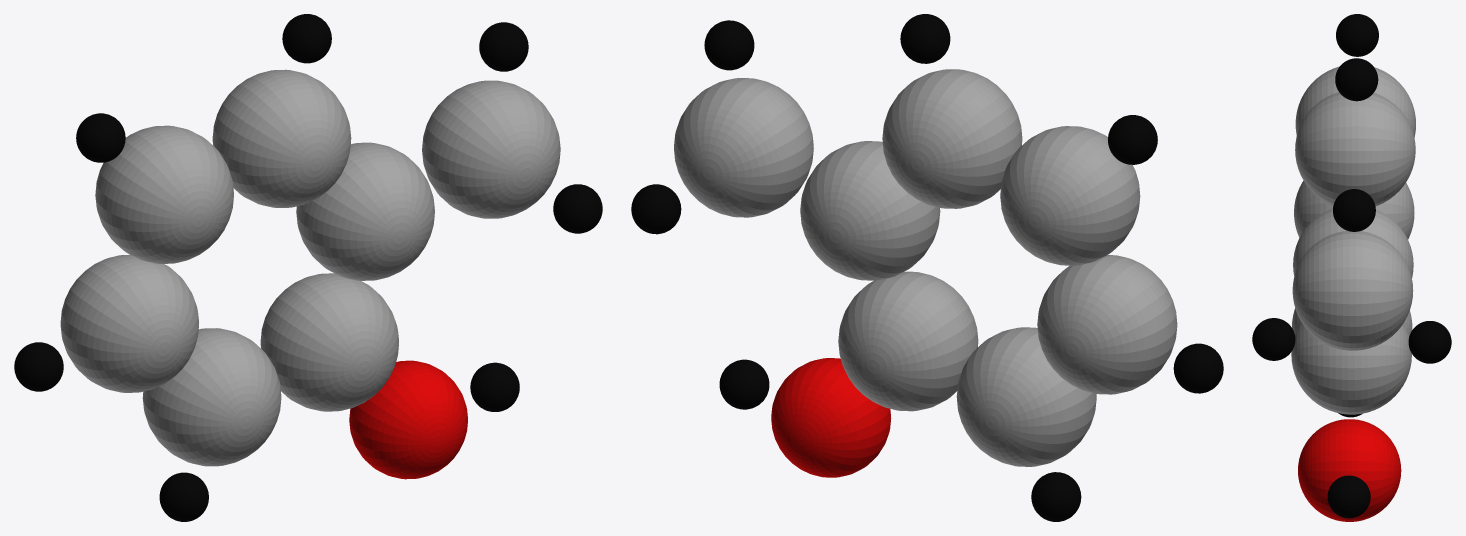
The model's file is Histamine.glb.
3 views of the same model, side by side, from view 1: azimuth 30°, elevation 25°; view 2: azimuth 150°, elevation 25°; view 3: azimuth 270°, elevation 25° (orthographic). The views are drawn at different scales.
Parts seen in each view (by area): view 1: world; view 2: world; view 3: world.
Part boxes in pixels (x1,y1,x2,y2): world: (14, 14, 602, 521); world: (631, 14, 1223, 521); world: (1252, 14, 1451, 521).
Bounding box in the file's own units: 6.25 × 5.32 × 2.31.
